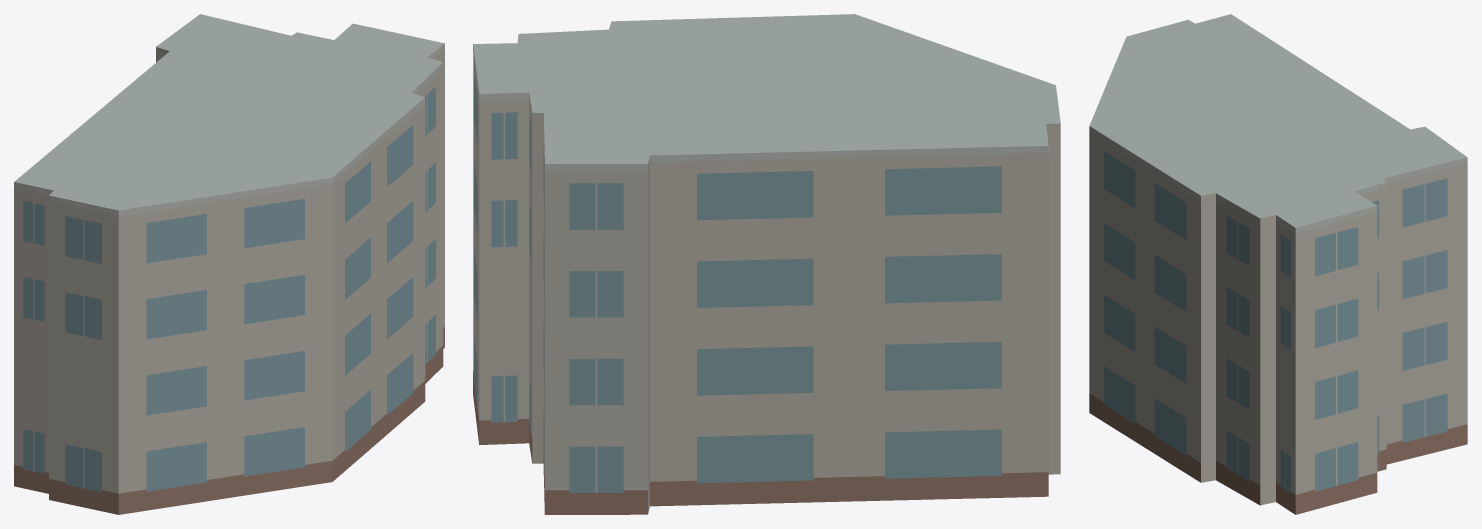
Rendered from survey-upis-32666397.glb.
The picture shows the model from 3 angles, left to right: view 1: azimuth 30°, elevation 25°; view 2: azimuth 150°, elevation 25°; view 3: azimuth 270°, elevation 25°; orthographic projection. The views are drawn at different scales.
Visible parts, largest first — view 1: survey-upis-32666397.tmp; view 2: survey-upis-32666397.tmp; view 3: survey-upis-32666397.tmp.
Part boxes in pixels (x1,y1,x2,y2): survey-upis-32666397.tmp: [14, 14, 444, 514]; survey-upis-32666397.tmp: [473, 14, 1060, 514]; survey-upis-32666397.tmp: [1089, 14, 1467, 514].
Size of the model in its own units: 19.51 by 12.2 by 14.59.
